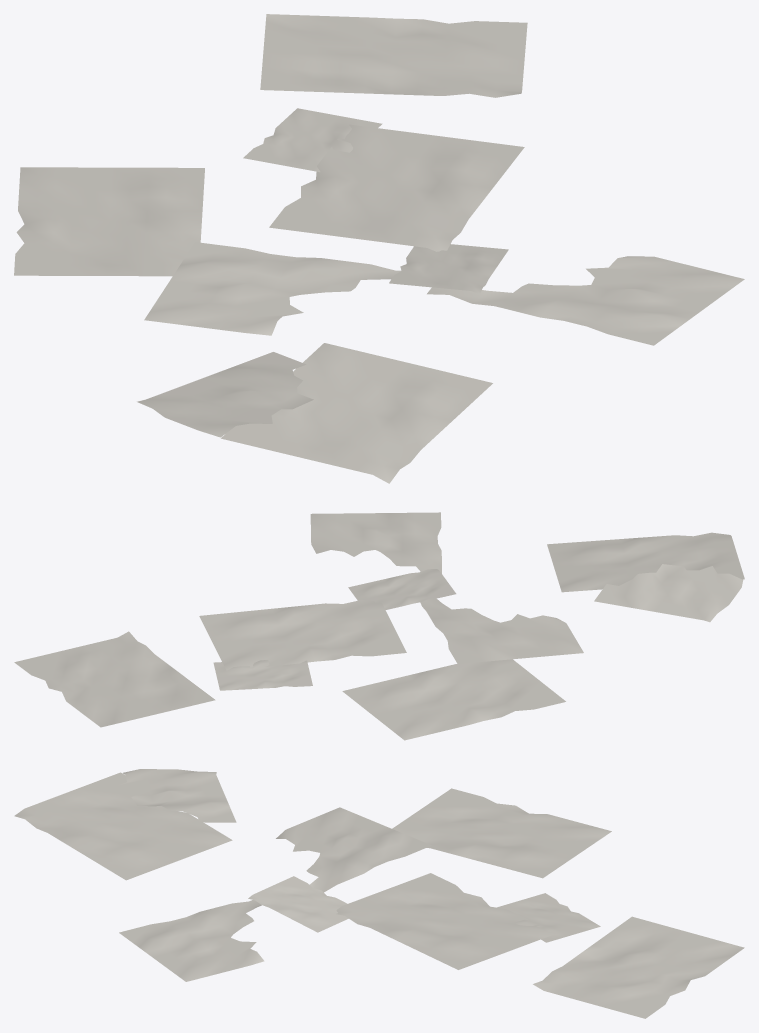
The model's file is Paper-ver2.fbx.
3 renders of one model, top to bottom at view 1: azimuth 30°, elevation 25°; view 2: azimuth 150°, elevation 25°; view 3: azimuth 270°, elevation 25°, orthographic. The views are drawn at different scales.
Visible parts, largest first — view 1: Paper_ver2; view 2: Paper_ver2; view 3: Paper_ver2.
Part boxes in pixels (left/top/right/bottom): Paper_ver2: left=14, top=14, right=744, bottom=483; Paper_ver2: left=14, top=512, right=744, bottom=740; Paper_ver2: left=14, top=769, right=744, bottom=1018.
Size of the model in its own units: 123 by 3.69 by 156.
1 material, 1 textured.
